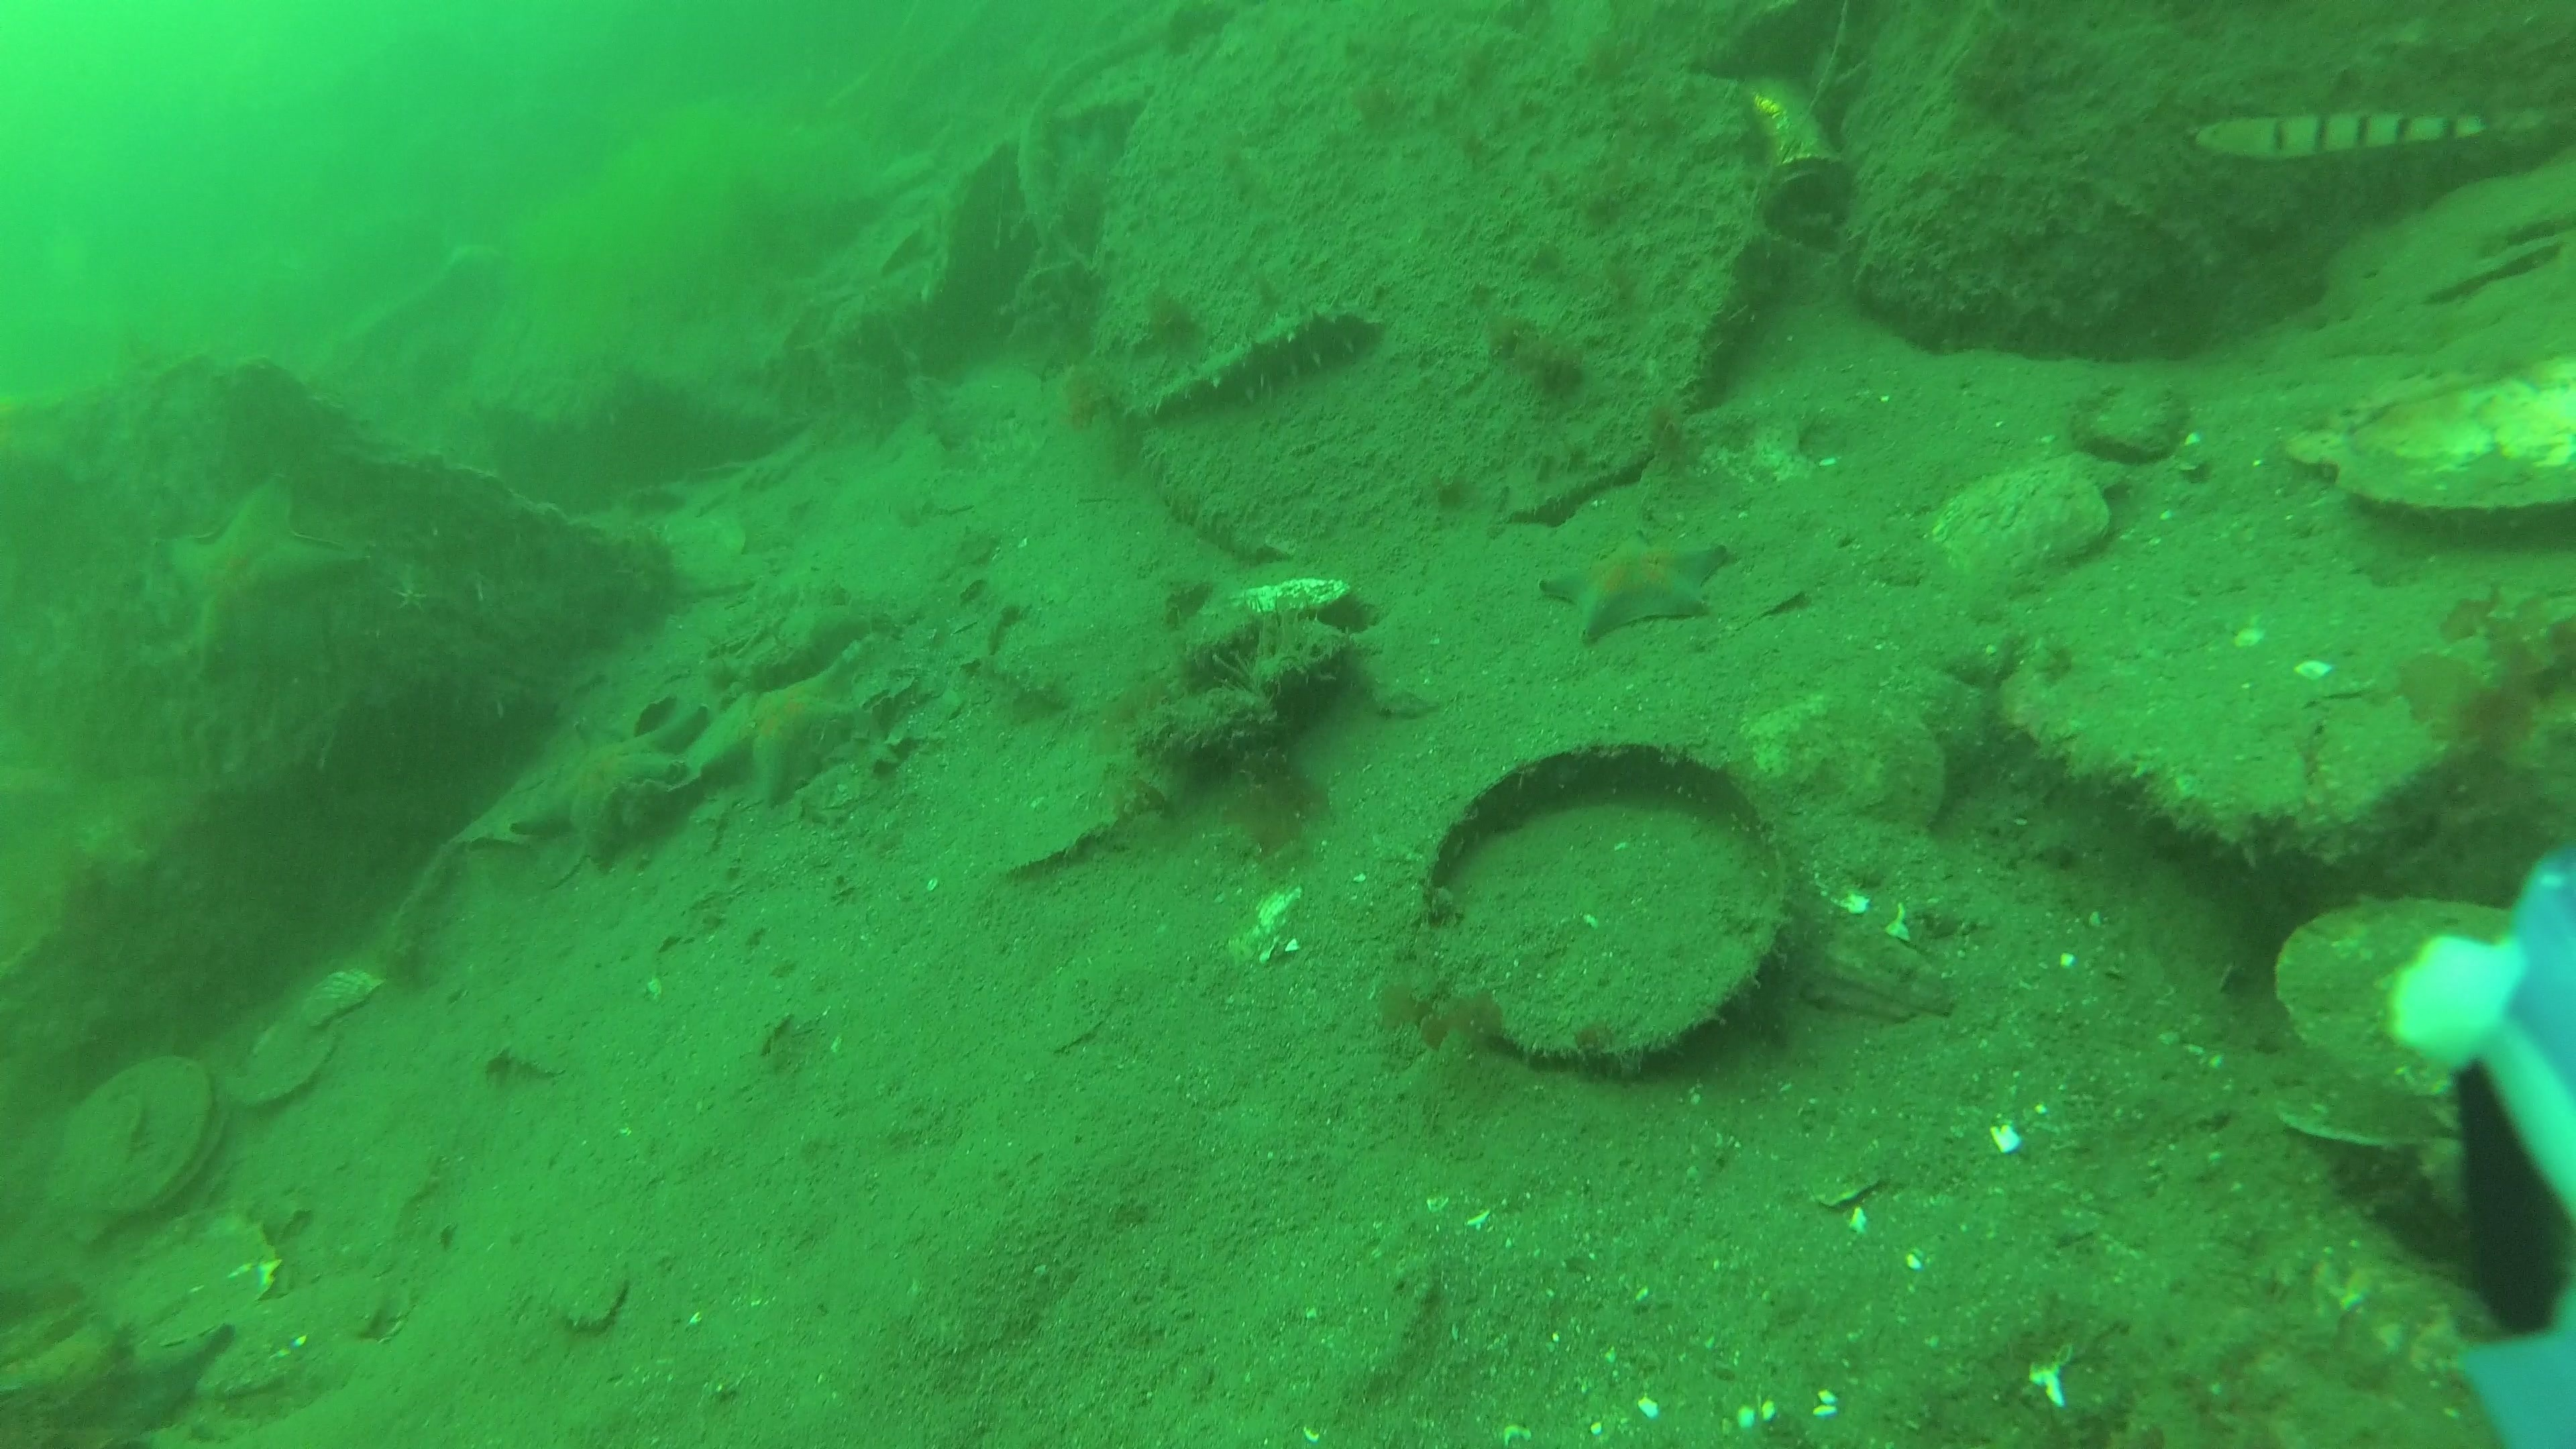holothurian: (1134, 304, 1375, 433)
scallop: (2328, 322, 2576, 596), (2268, 879, 2516, 1152), (1748, 699, 1950, 855), (58, 1056, 216, 1231)
starfish: (161, 471, 364, 667), (510, 695, 713, 872), (694, 669, 869, 810), (1548, 533, 1736, 644)
